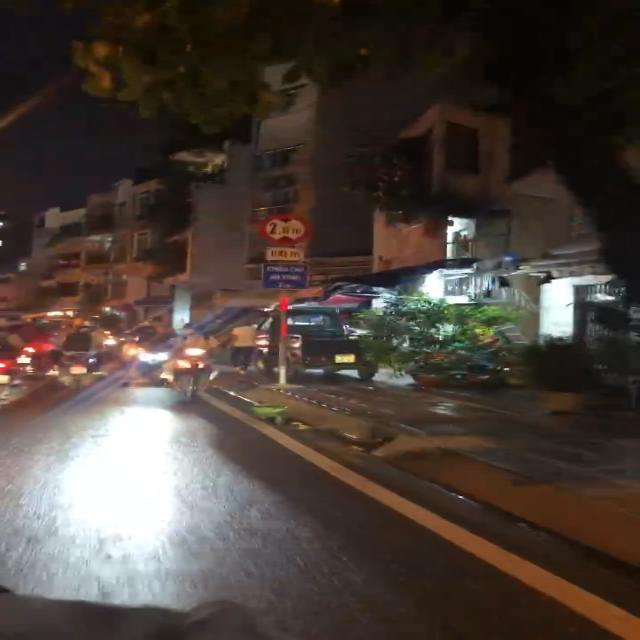Bien bao han che chieu cao: (254, 213, 318, 245)
